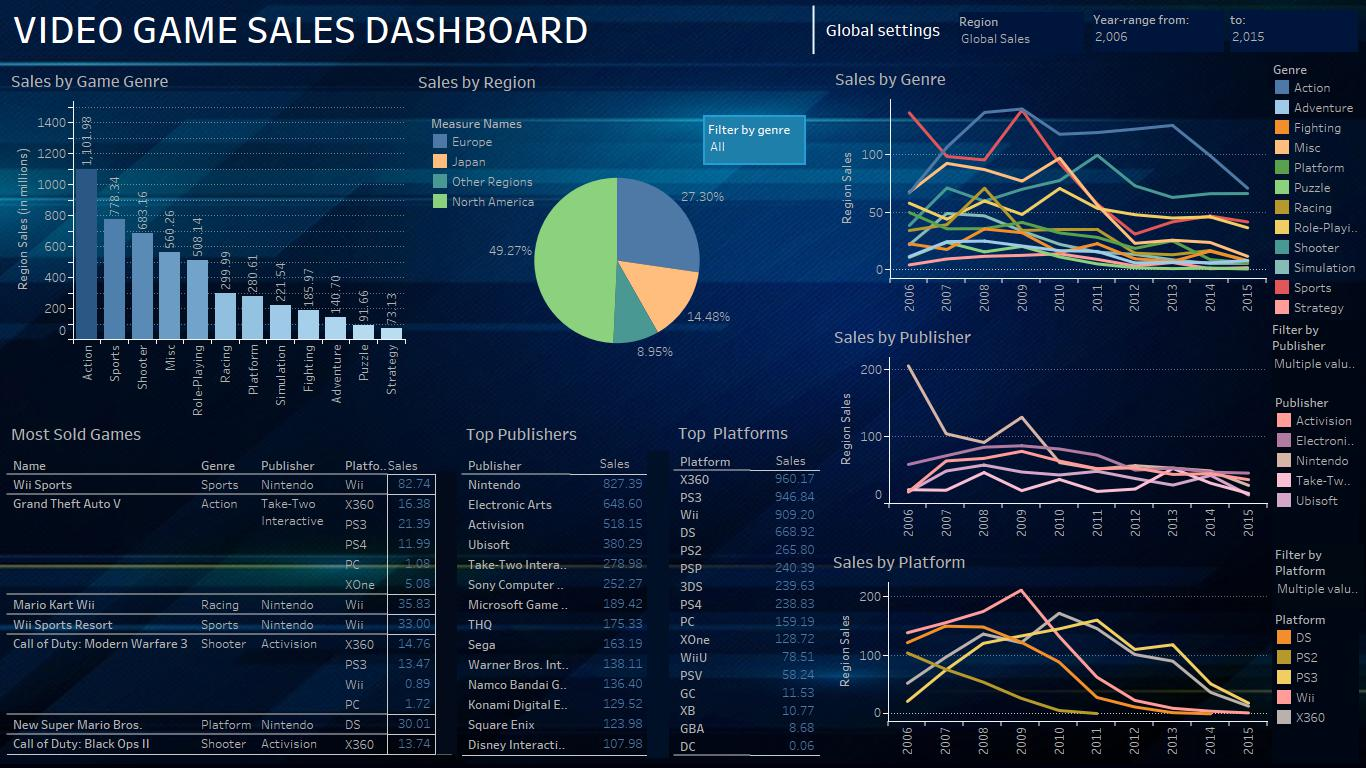

What the dashboard file says about the page in this screenshot:
{"tool":"tableau","page":{"name":"Dashboard 2","canvas":[1366,768],"ordinal":1},"visuals":[{"type":"image","param":"D:/pyprog/practice/csvtodb/portfolio-dashboard/global settings line.jpg","box":[799,1,18,59]},{"type":"title","box":[8,8,1350,53]},{"type":"text","box":[10,8,703,40]},{"type":"parameter","param":"[Parameters].[Parameter 2]","box":[1093,10,131,42]},{"type":"parameter","param":"[Parameters].[Parameter 3]","box":[1230,10,128,42]},{"type":"parameter","param":"[Parameters].[Parameter 1]","box":[959,12,125,42]},{"type":"text","box":[823,17,123,26]},{"type":"legend","title":"sales-years-genre","param":"[federated.0rc73sq1olvrj818etojb1lzlh97].[none:F5:nk]","box":[1272,59,87,258]},{"type":"worksheet","title":"sales-years-genre","mark":"Line","rows":["Calculation_330451681605750784"],"cols":["F4"],"box":[831,62,435,256]},{"type":"worksheet","title":"Sales-genre","mark":"Automatic","rows":["Calculation_330451681605750784"],"cols":["F5"],"box":[7,64,398,355]},{"type":"worksheet","title":"%sales-region","mark":"Pie","box":[414,65,407,356]},{"type":"legend","title":"%sales-region","param":"[federated.0rc73sq1olvrj818etojb1lzlh97].[:Measure Names]","box":[430,113,140,98]},{"type":"filter","title":"%sales-region","param":"[federated.0rc73sq1olvrj818etojb1lzlh97].[none:F5:nk]","box":[703,115,103,50]},{"type":"worksheet","title":"sales-years-publ","mark":"Line","rows":["Calculation_330451681605750784"],"cols":["F4"],"box":[830,320,437,223]},{"type":"legend","title":"sales-years-publ","param":"[federated.0rc73sq1olvrj818etojb1lzlh97].[none:F6:nk]","box":[1274,392,81,118]},{"type":"worksheet","title":"plat-sales","mark":"Automatic","rows":["F3"],"box":[674,416,146,340]},{"type":"worksheet","title":"games-sales","mark":"Automatic","rows":["F2","F5","F6","F3"],"box":[7,417,456,338]},{"type":"worksheet","title":"publish-sales","mark":"Automatic","rows":["F6"],"box":[462,417,206,339]},{"type":"text","box":[773,447,38,26]},{"type":"text","box":[385,451,54,28]},{"type":"text","box":[597,451,40,25]},{"type":"blank","box":[647,451,22,307]},{"type":"blank","box":[436,471,21,283]},{"type":"worksheet","title":"sales-years-plat","mark":"Line","rows":["Calculation_330451681605750784"],"cols":["F4"],"box":[829,545,438,216]},{"type":"filter","title":"sales-years-plat","param":"[federated.0rc73sq1olvrj818etojb1lzlh97].[none:F3:nk]","box":[1275,545,89,64]},{"type":"legend","title":"sales-years-plat","param":"[federated.0rc73sq1olvrj818etojb1lzlh97].[none:F3:nk]","box":[1274,609,71,118]}]}

Visuals, with their boxes in screenshot pixels (x1, y1, x2, y2), scaled from the page's 1366x768 canvas onto the 1366x768 screenshot:
image: [left=799, top=1, right=817, bottom=60]
title: [left=8, top=8, right=1358, bottom=61]
text: [left=10, top=8, right=713, bottom=48]
parameter: [left=1093, top=10, right=1224, bottom=52]
parameter: [left=1230, top=10, right=1358, bottom=52]
parameter: [left=959, top=12, right=1084, bottom=54]
text: [left=823, top=17, right=946, bottom=43]
"sales-years-genre" legend: [left=1272, top=59, right=1359, bottom=317]
"sales-years-genre" worksheet (Line marks): [left=831, top=62, right=1266, bottom=318]
"Sales-genre" worksheet: [left=7, top=64, right=405, bottom=419]
"%sales-region" worksheet (Pie marks): [left=414, top=65, right=821, bottom=421]
"%sales-region" legend: [left=430, top=113, right=570, bottom=211]
"%sales-region" filter: [left=703, top=115, right=806, bottom=165]
"sales-years-publ" worksheet (Line marks): [left=830, top=320, right=1267, bottom=543]
"sales-years-publ" legend: [left=1274, top=392, right=1355, bottom=510]
"plat-sales" worksheet: [left=674, top=416, right=820, bottom=756]
"games-sales" worksheet: [left=7, top=417, right=463, bottom=755]
"publish-sales" worksheet: [left=462, top=417, right=668, bottom=756]
text: [left=773, top=447, right=811, bottom=473]
text: [left=385, top=451, right=439, bottom=479]
text: [left=597, top=451, right=637, bottom=476]
blank: [left=647, top=451, right=669, bottom=758]
blank: [left=436, top=471, right=457, bottom=754]
"sales-years-plat" worksheet (Line marks): [left=829, top=545, right=1267, bottom=761]
"sales-years-plat" filter: [left=1275, top=545, right=1364, bottom=609]
"sales-years-plat" legend: [left=1274, top=609, right=1345, bottom=727]
